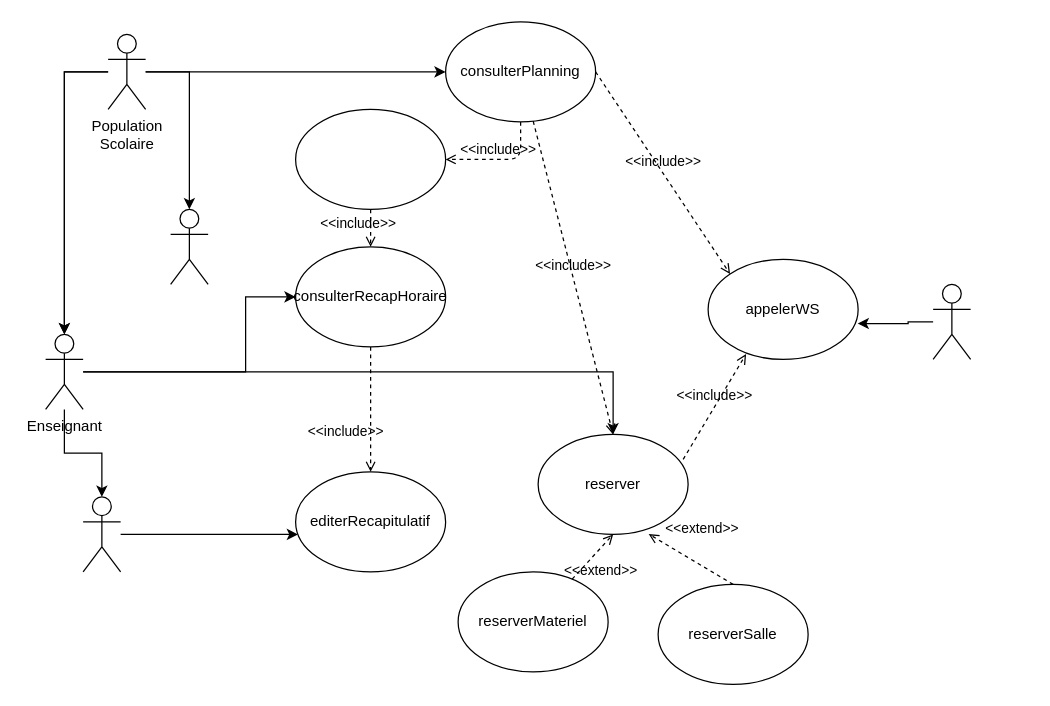
Some shapes in this 1050 by 706 pixel diagram are drawn without their labels. The box of each missing label's shape, as (x1, y1, x2, y2) in pixels:
calculerRecapitualif: (294, 108, 446, 209)
Enseignant responsable: (82, 496, 121, 572)
Etudiant: (169, 208, 208, 284)
Établissement Scolaire: (932, 283, 971, 359)
